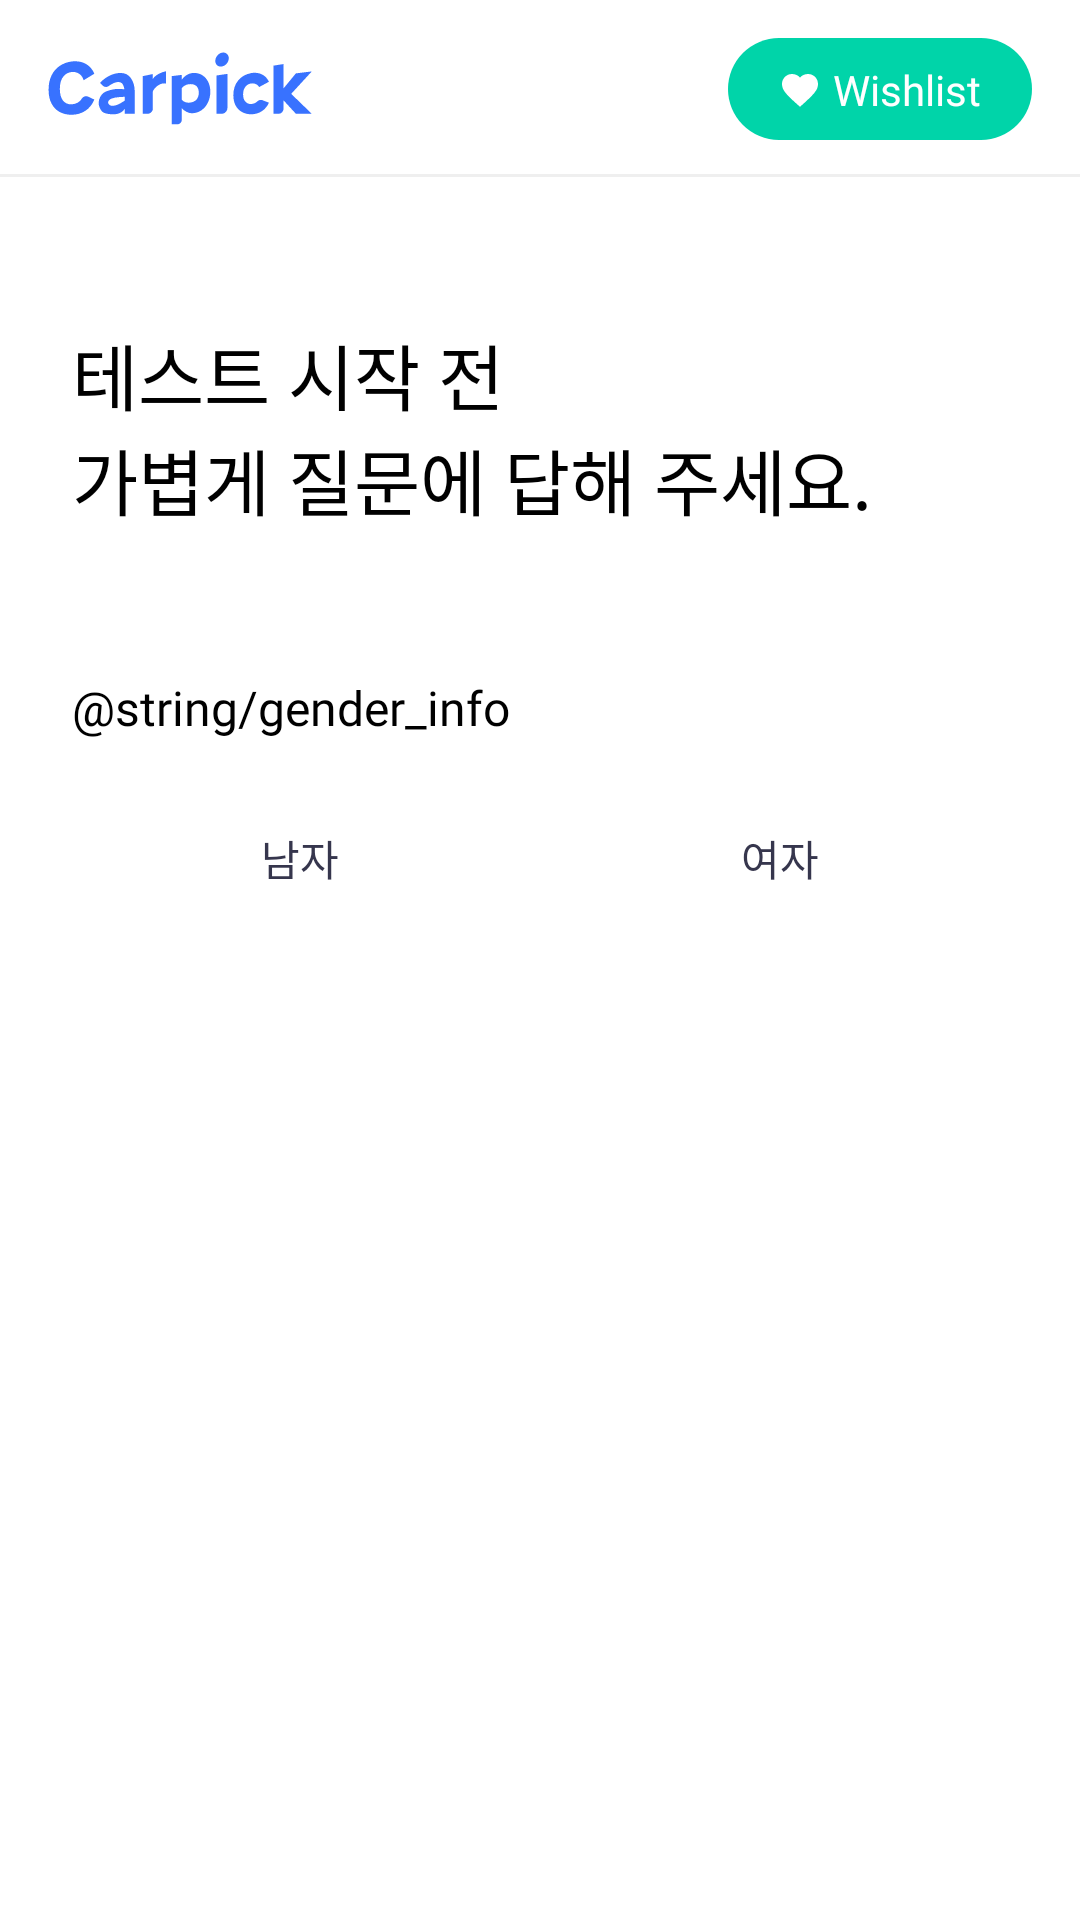

Where icons sit on this 1080×1920 app screen, as Rect(x1, y1, x2, y2):
heart: Rect(782, 74, 818, 107)
